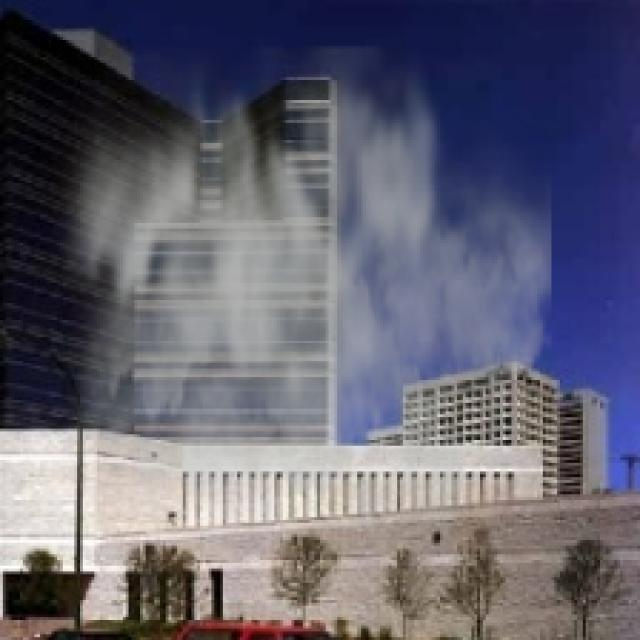Smoke: (31, 46, 552, 592)
